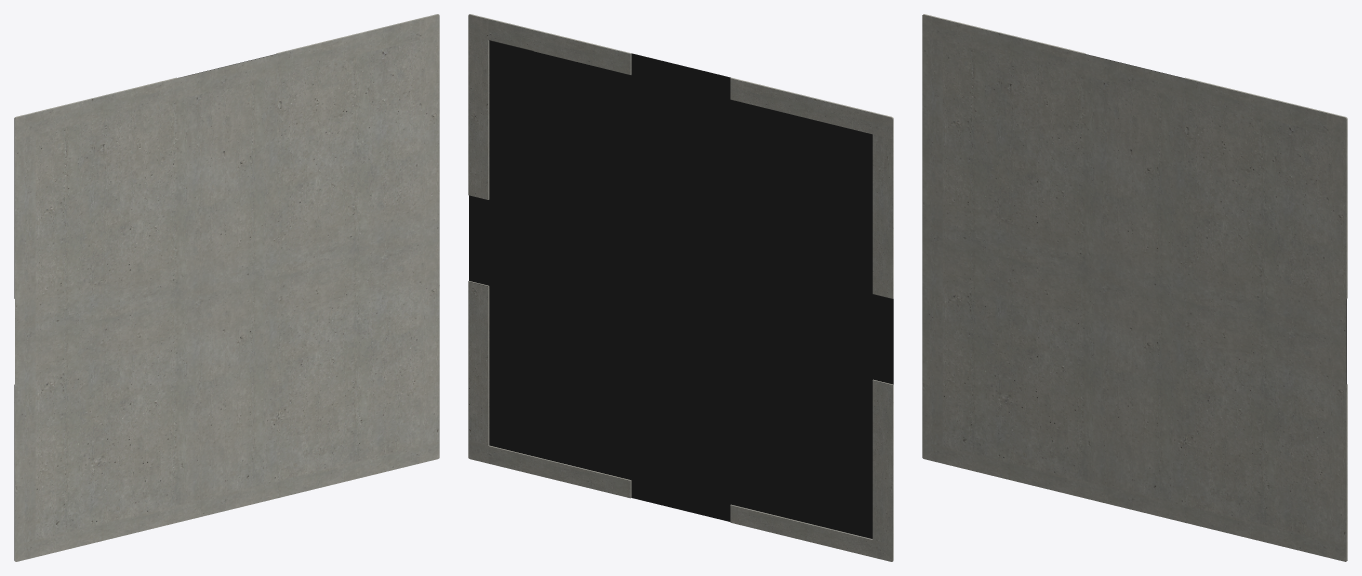
The model's file is block-asphalt-4-corners-40m.obj.
The picture shows the model from 3 angles, left to right: view 1: azimuth 30°, elevation 25°; view 2: azimuth 150°, elevation 25°; view 3: azimuth 330°, elevation 25°; orthographic projection.
Parts seen in each view (by area): view 1: block-asphalt-4-corners-40m_Plane.167; view 2: block-asphalt-4-corners-40m_Plane.167; view 3: block-asphalt-4-corners-40m_Plane.167.
Part boxes in pixels (x1=…): block-asphalt-4-corners-40m_Plane.167: x1=14, y1=14, x2=439, y2=561; block-asphalt-4-corners-40m_Plane.167: x1=468, y1=14, x2=893, y2=561; block-asphalt-4-corners-40m_Plane.167: x1=922, y1=14, x2=1347, y2=561.
Bounding box in the file's own units: 40 × 40 × 0.15.
